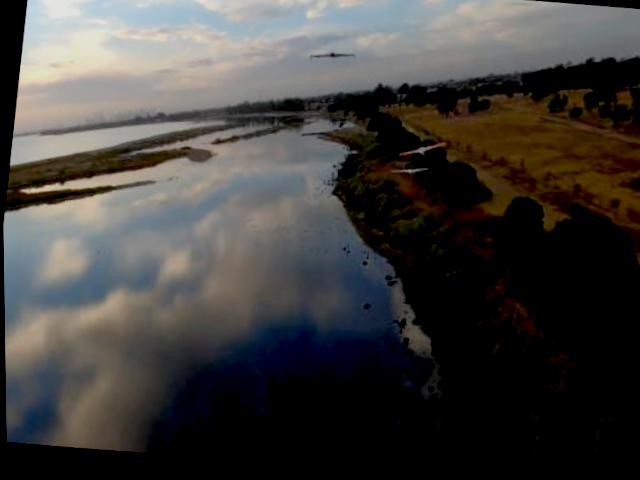uav: (396, 134, 453, 167), (306, 45, 356, 72)
